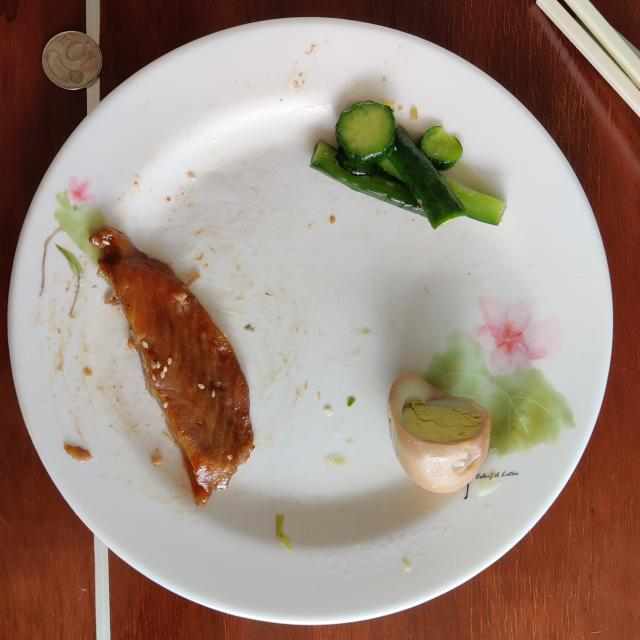Kabayaki sea bream fillet: (89, 228, 254, 505)
coin: (42, 31, 102, 90)
cucumber: (310, 101, 506, 229)
soy egg: (388, 374, 491, 492)
